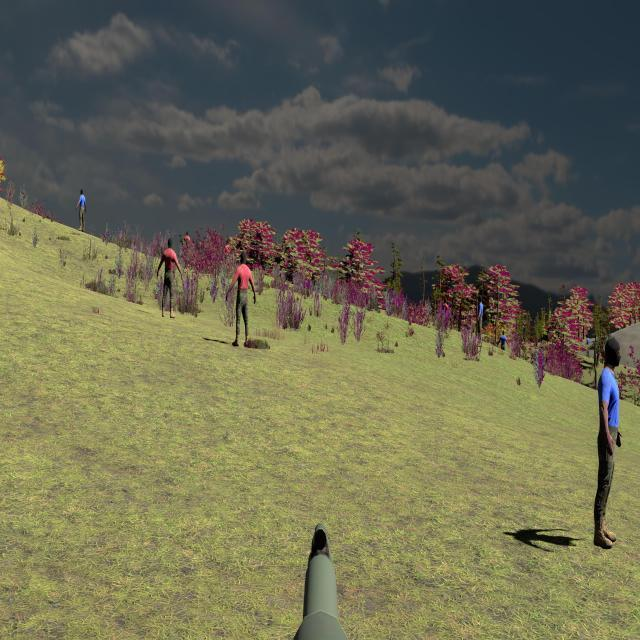Human: (594, 335, 622, 548), (225, 250, 256, 347), (157, 235, 182, 318)
